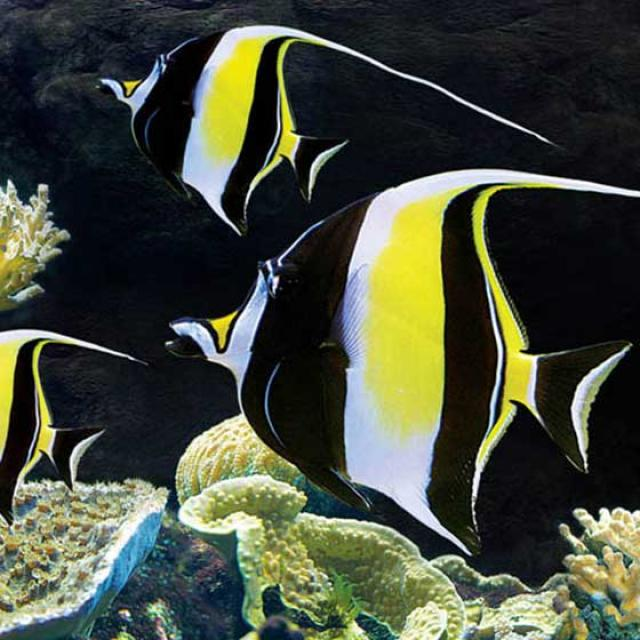MorishIdol: (161, 166, 639, 559), (94, 22, 550, 239)
